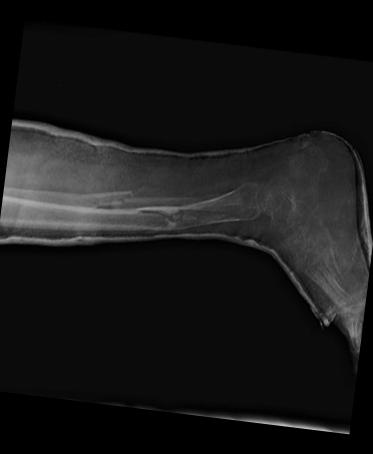fractured: (128, 203, 183, 231), (107, 189, 134, 210)
